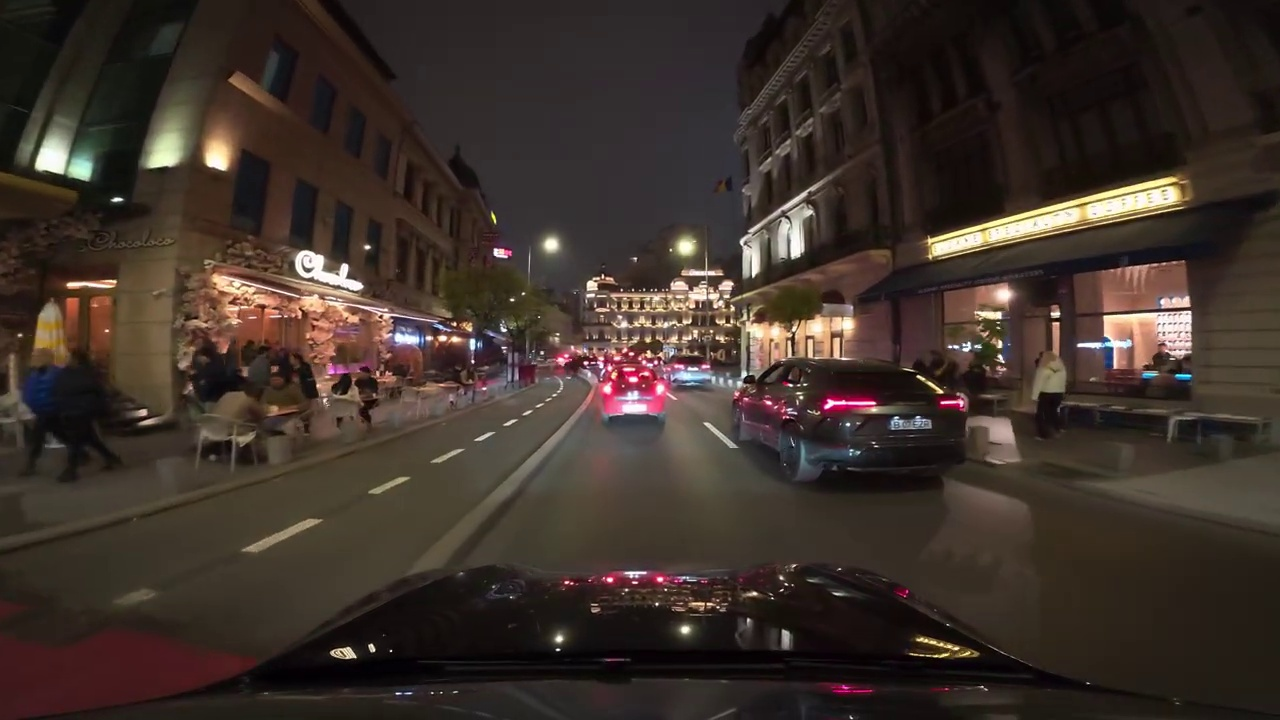acesa: (672, 232, 699, 258), (539, 233, 564, 258)
